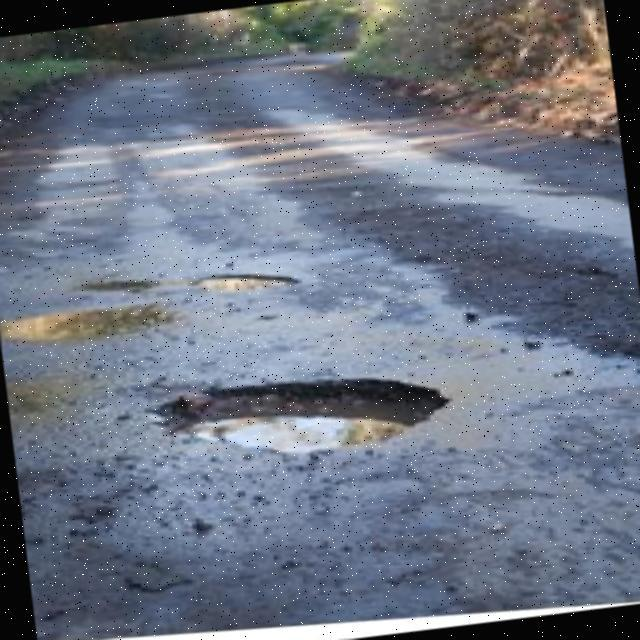Pothole: (156, 378, 451, 455), (2, 304, 167, 341), (187, 276, 298, 293), (80, 278, 157, 295)
